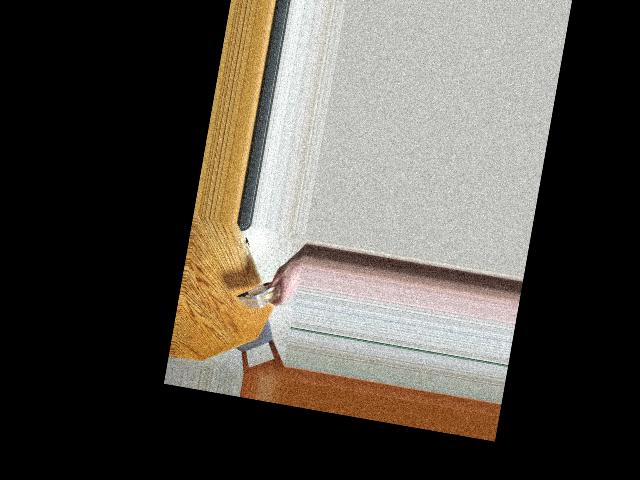cheese: (242, 262, 294, 326)
